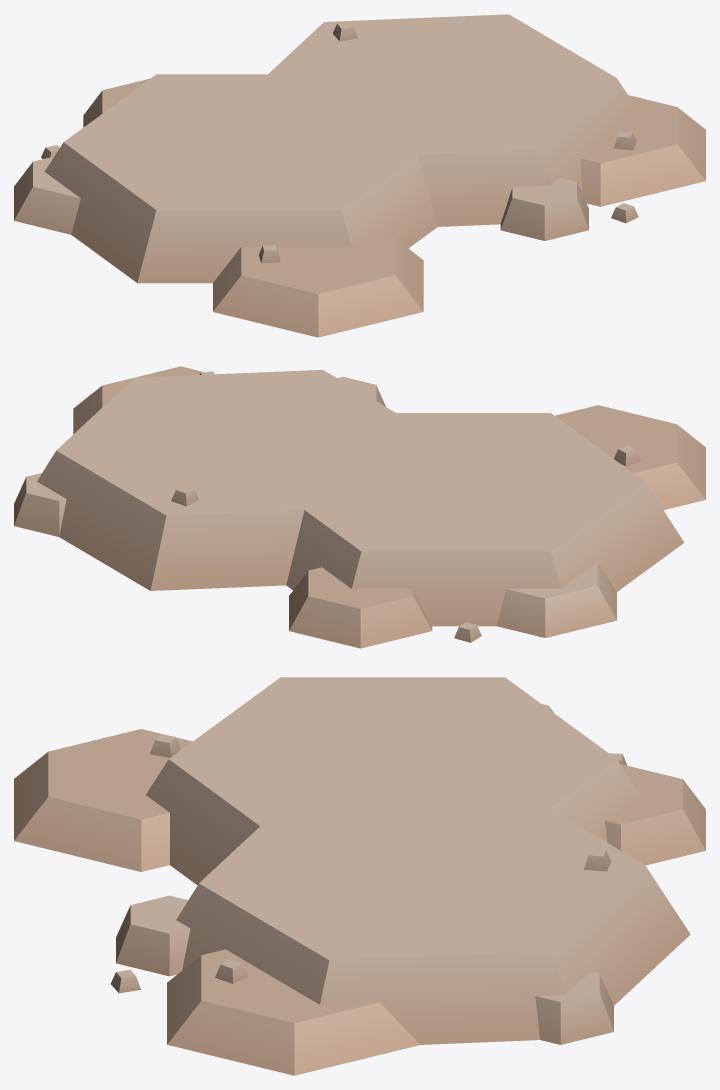
Rendered from rock-flat.glb.
The picture shows the model from 3 angles, top to bottom: view 1: azimuth 30°, elevation 25°; view 2: azimuth 150°, elevation 25°; view 3: azimuth 270°, elevation 25°; orthographic projection. The views are drawn at different scales.
Parts seen in each view (by area): view 1: rock-flat; view 2: rock-flat; view 3: rock-flat.
Part boxes in pixels (box(x1,y1,x2,y2)): rock-flat: box(14, 14, 705, 337); rock-flat: box(14, 366, 705, 648); rock-flat: box(14, 677, 705, 1075).
Size of the model in its own units: 1.79 by 0.195 by 1.45.
